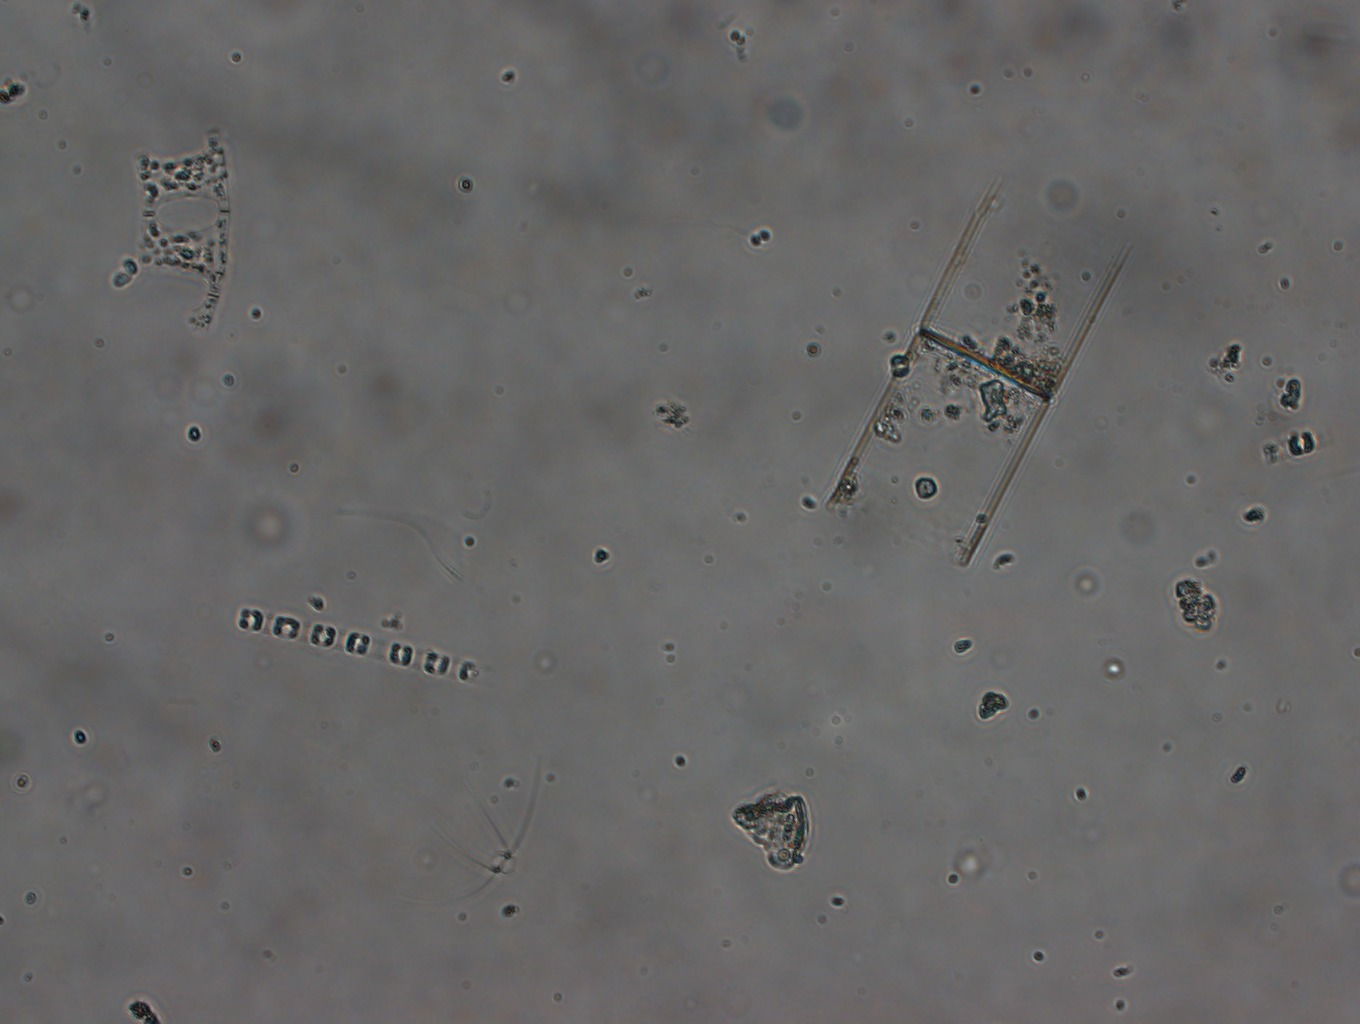eucampia: (111, 130, 229, 331)
guinardia flaccida: (825, 176, 1136, 570)
skeletonema: (237, 603, 483, 683)
